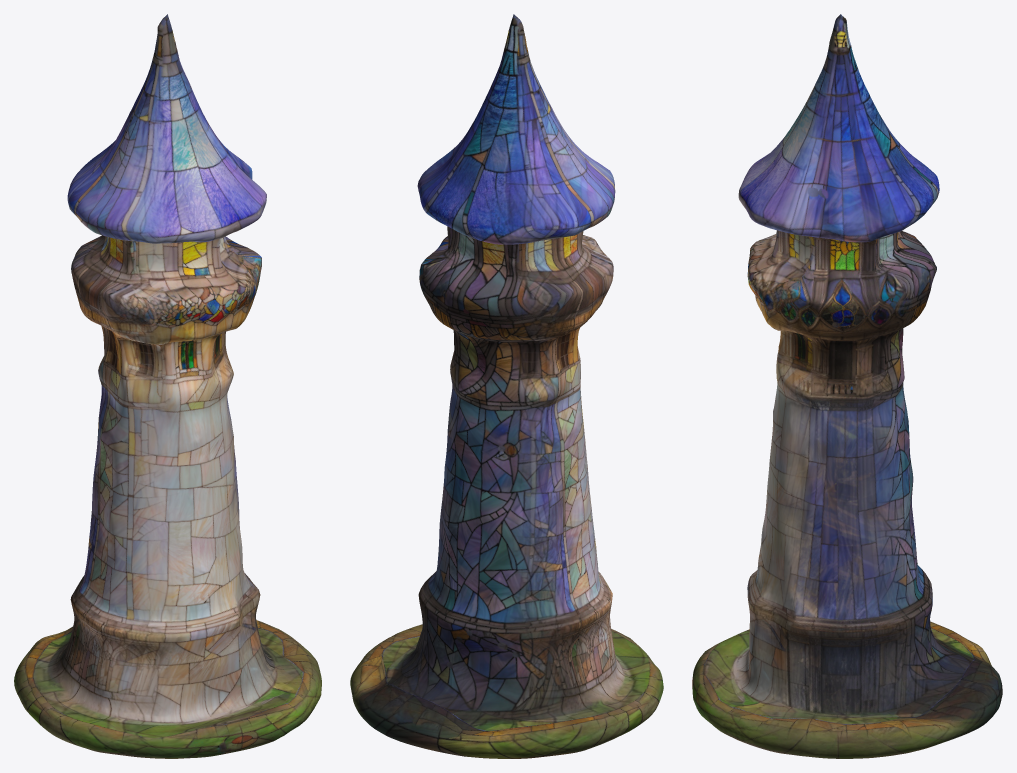
Rendered from tower3.fbx.
The picture shows the model from 3 angles, left to right: view 1: azimuth 30°, elevation 25°; view 2: azimuth 150°, elevation 25°; view 3: azimuth 270°, elevation 25°; orthographic projection.
Parts seen in each view (by area): view 1: Mesh_0; view 2: Mesh_0; view 3: Mesh_0.
Boxes of the visible parts, x1,y1,x2,y2 form: Mesh_0: (14, 14, 321, 758); Mesh_0: (350, 14, 663, 758); Mesh_0: (692, 14, 1002, 758).
Size of the model in its own units: 47.88 by 120 by 48.72.
1 material, 1 textured.
